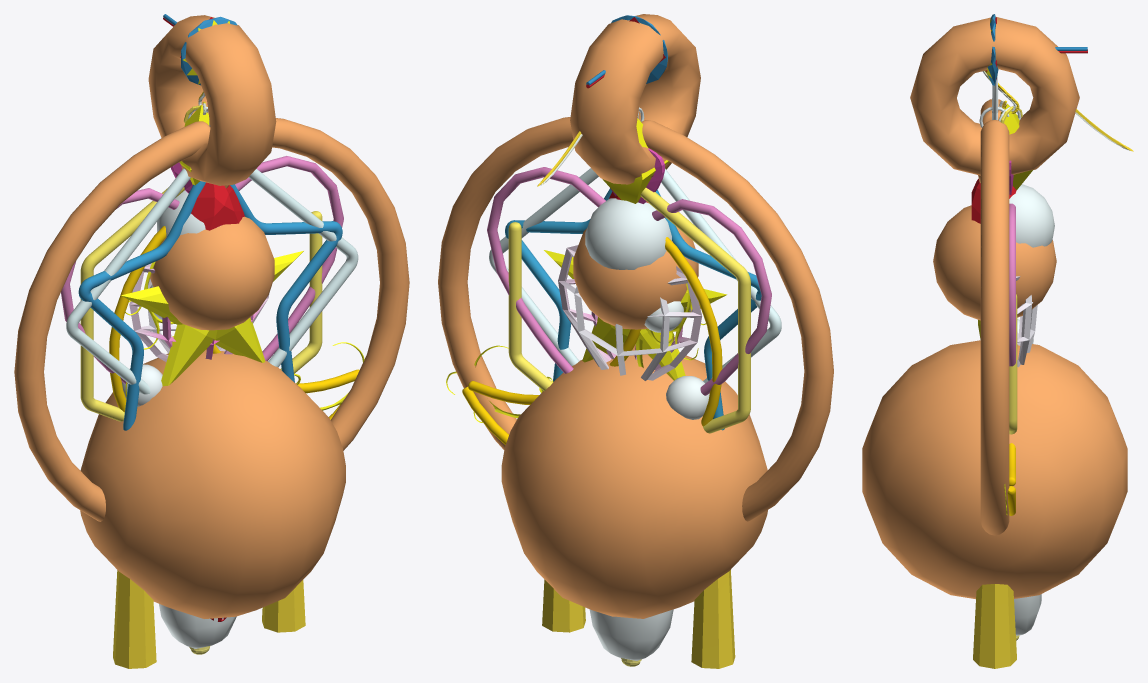
The picture shows the model from 3 angles, left to right: view 1: azimuth 30°, elevation 25°; view 2: azimuth 150°, elevation 25°; view 3: azimuth 270°, elevation 25°; orthographic projection. The views are drawn at different scales.
Visible parts, largest first — view 1: eh5, eh3, eh2, eh1, eh6, eh4; view 2: eh5, eh1, eh3, eh6, eh4, eh2; view 3: eh5, eh1, eh3, eh6, eh4, eh2.
Part boxes in pixels (box(x1,y1,x2,y2)): eh5: box(14, 15, 409, 618); eh3: box(78, 14, 342, 668); eh2: box(66, 17, 358, 621); eh1: box(80, 91, 322, 654); eh6: box(61, 92, 343, 383); eh4: box(109, 95, 364, 419); eh5: box(438, 14, 833, 618); eh1: box(508, 131, 750, 666); eh3: box(505, 15, 761, 668); eh6: box(487, 111, 771, 395); eh4: box(446, 118, 722, 444); eh2: box(489, 17, 781, 383); eh5: box(862, 17, 1127, 599); eh1: box(985, 70, 1133, 640); eh3: box(973, 14, 1087, 668); eh6: box(982, 71, 1129, 367); eh4: box(984, 71, 1122, 515); eh2: box(971, 17, 1087, 223).
Size of the model in its own units: 5.59 by 8.75 by 3.44.
